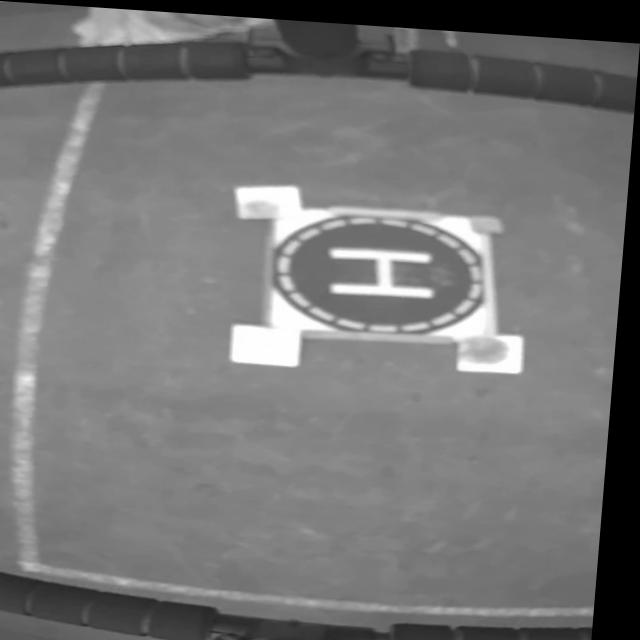Helipad: (331, 241, 440, 292)
